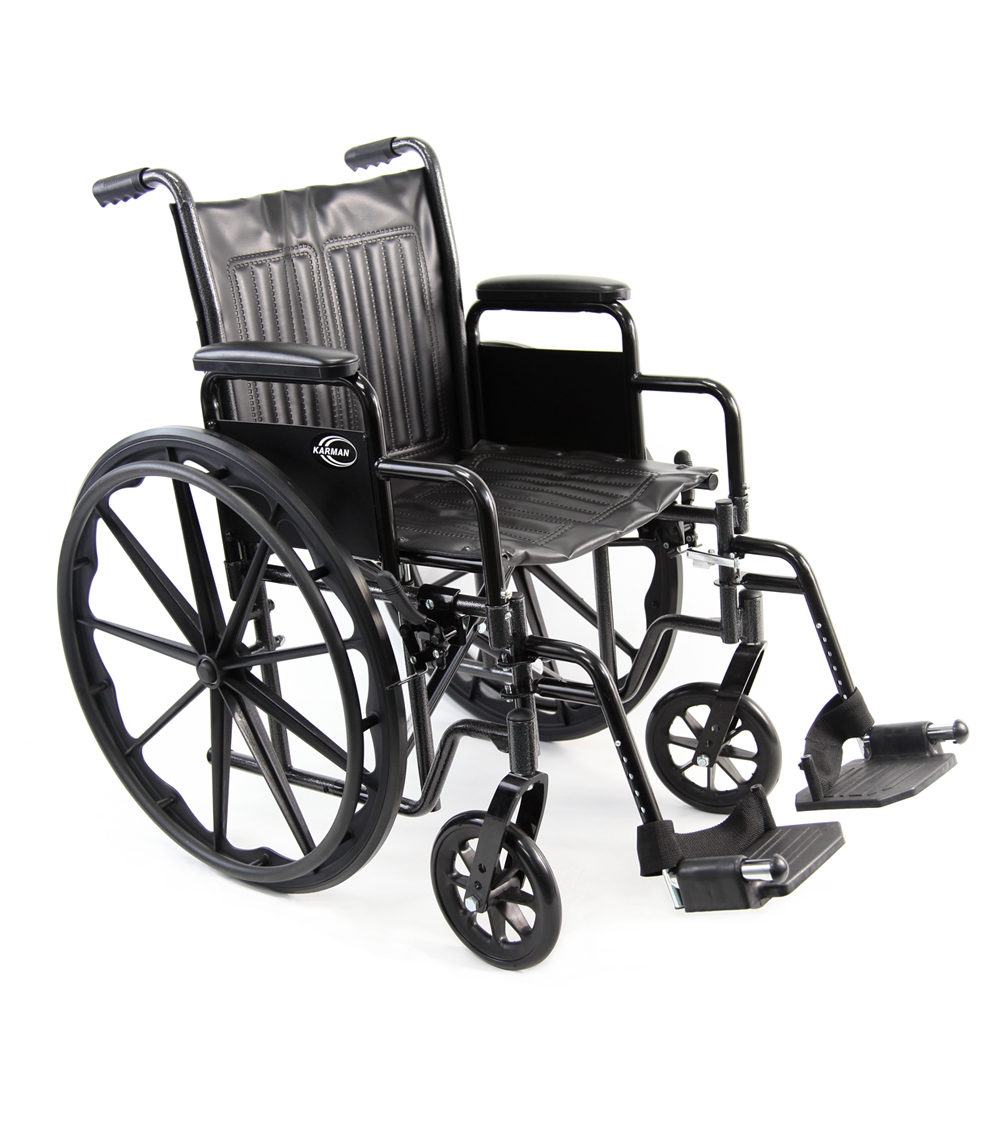wheelchair: (66, 109, 978, 983)
